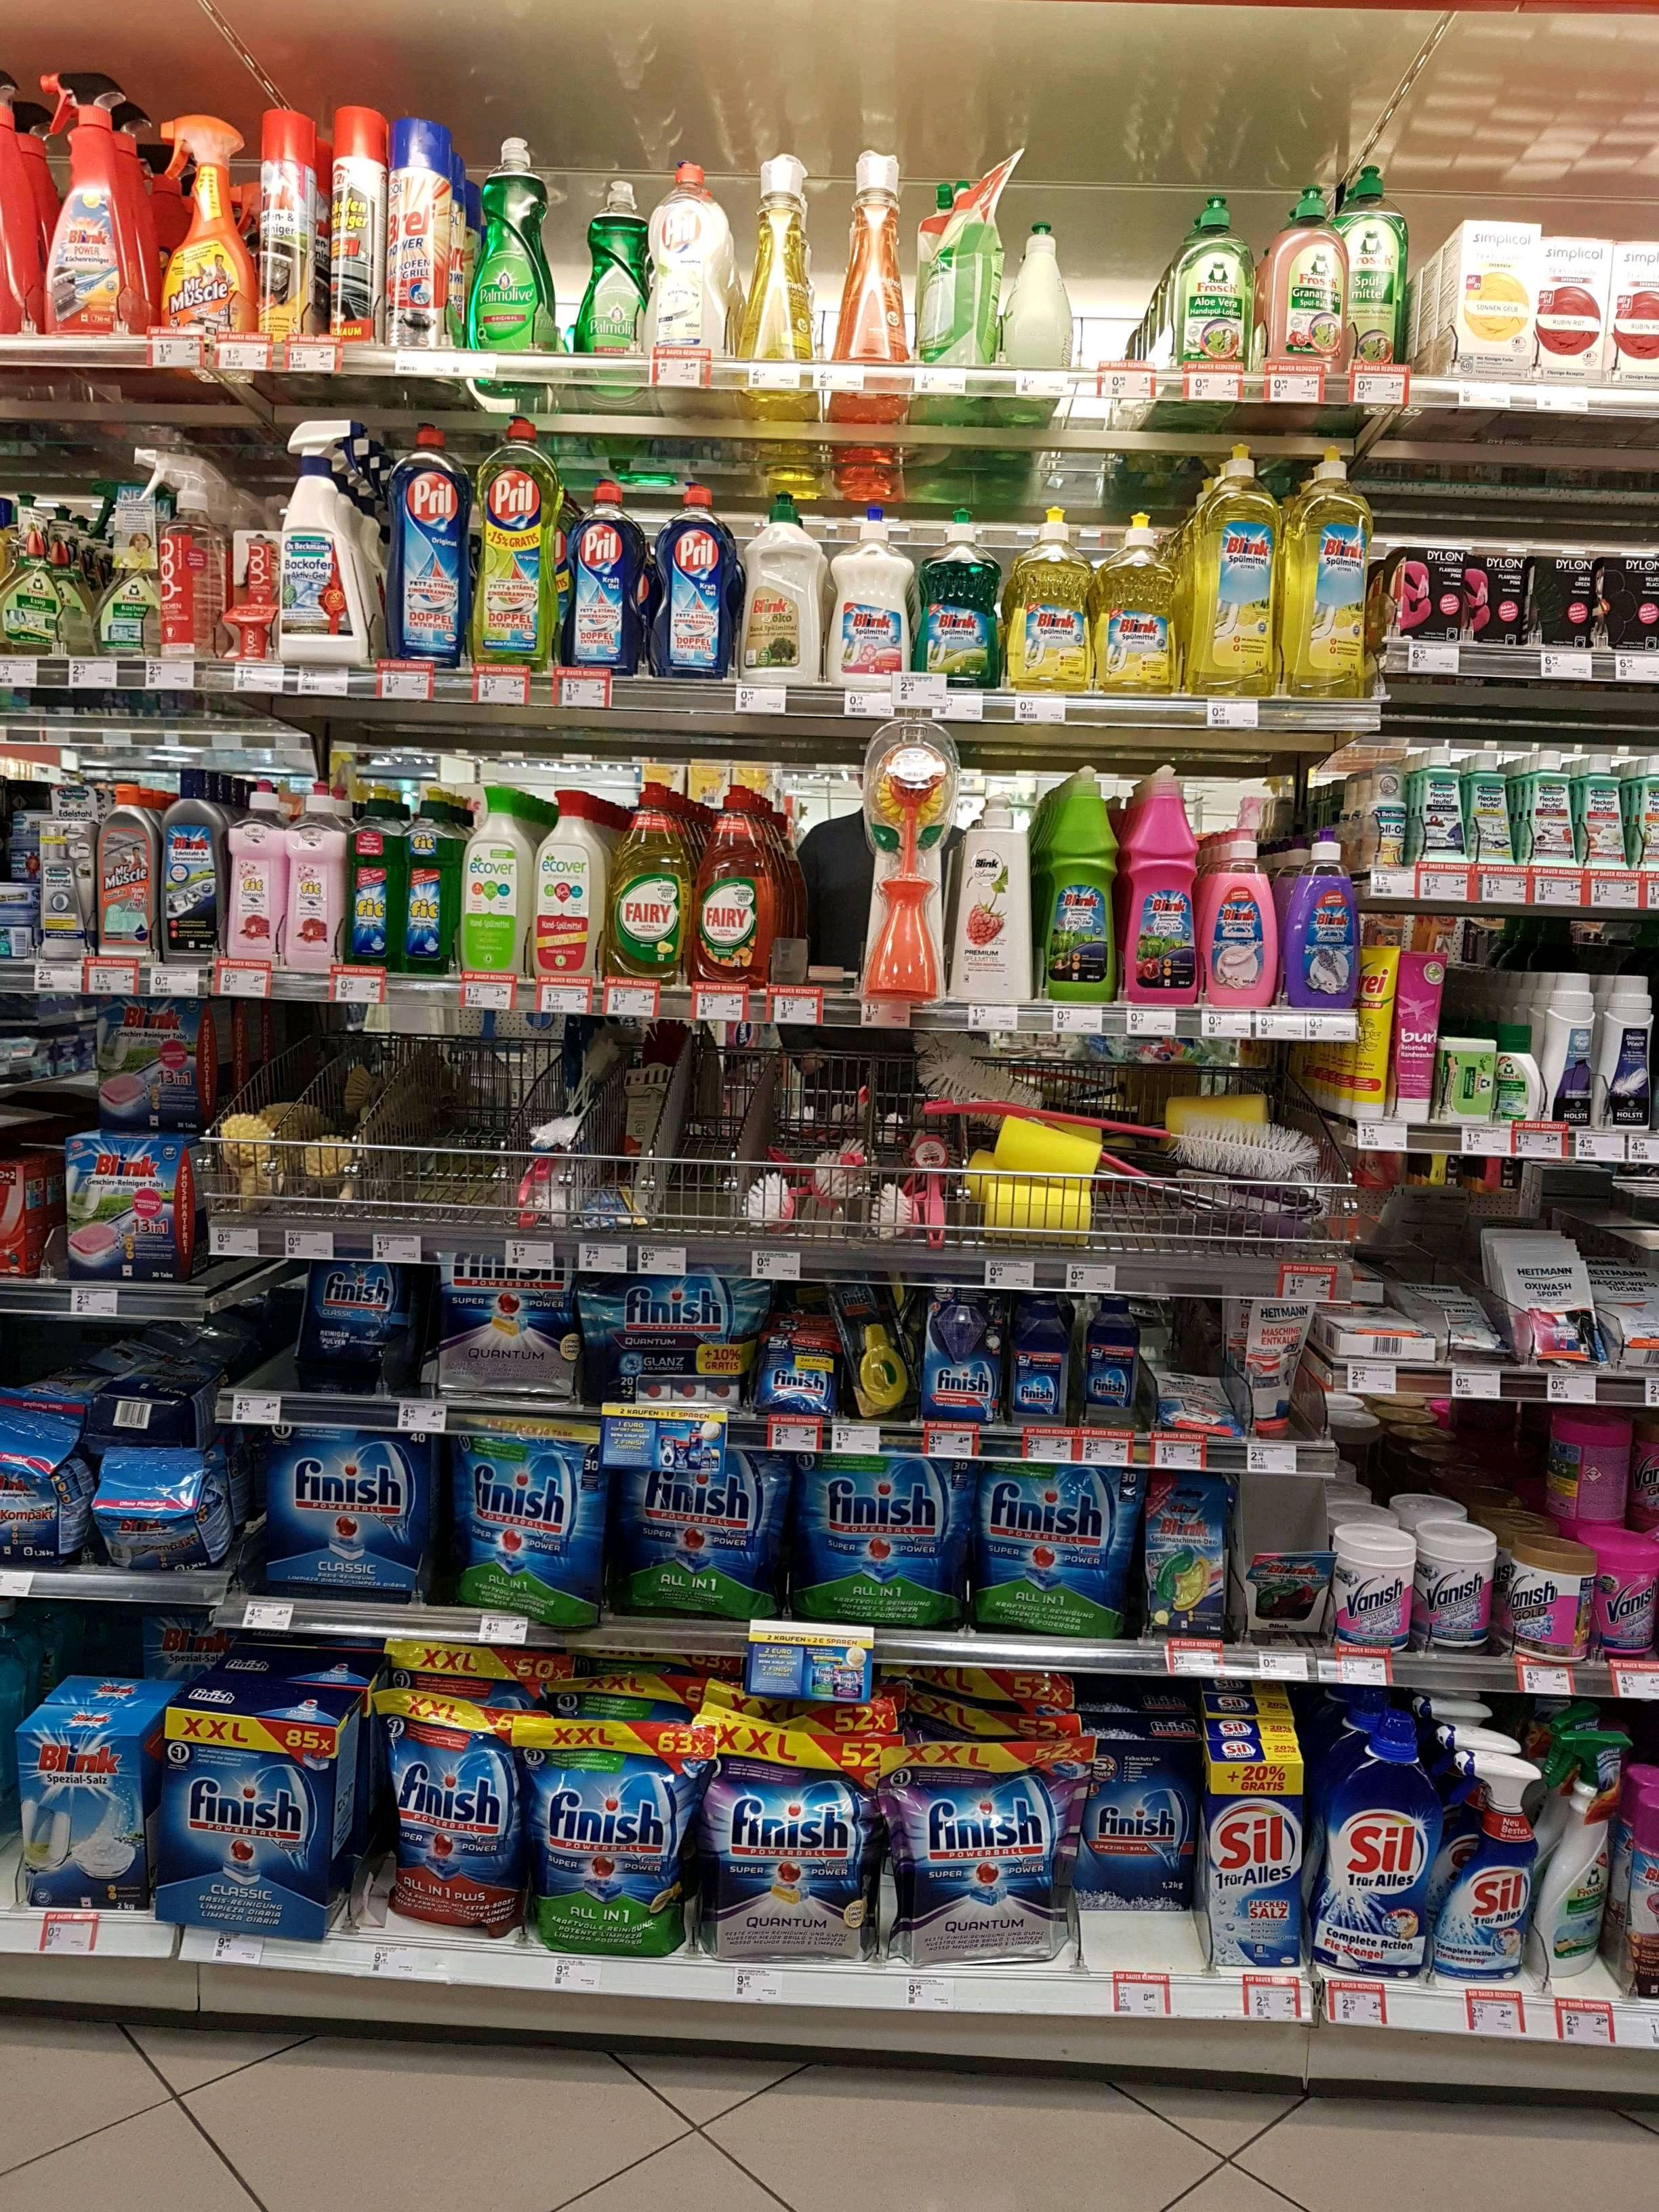empty: (415, 1021, 493, 1197), (1073, 219, 1145, 374), (805, 775, 857, 972), (687, 1038, 730, 1200)
misalignment: (760, 1045, 1335, 1240), (1152, 1362, 1246, 1439)
